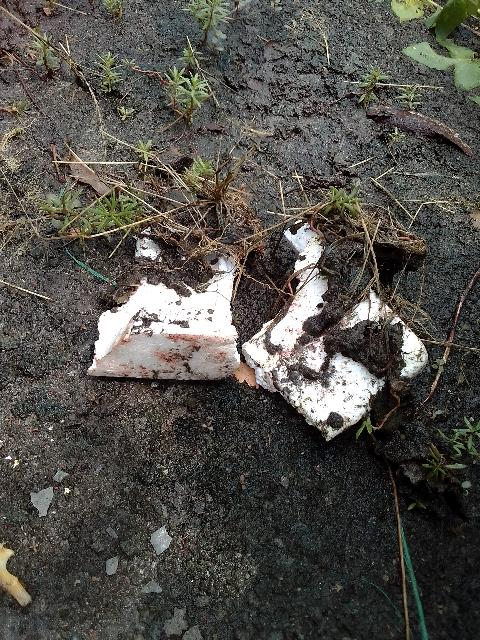cocksheet: (241, 249, 430, 435), (86, 265, 245, 388)
